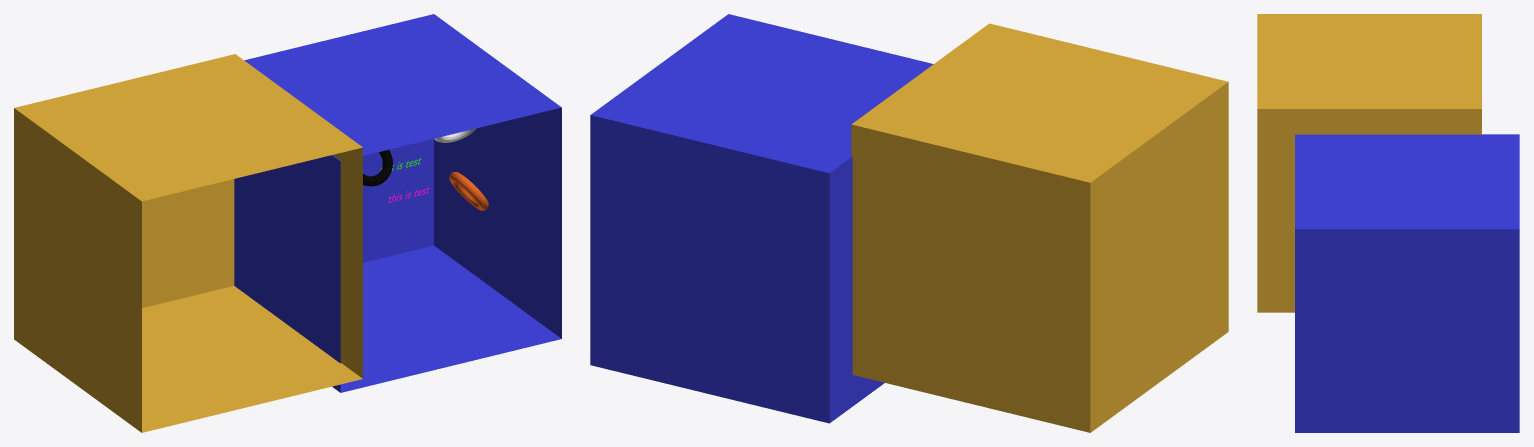
The picture shows the model from 3 angles, left to right: view 1: azimuth 30°, elevation 25°; view 2: azimuth 150°, elevation 25°; view 3: azimuth 270°, elevation 25°; orthographic projection. The views are drawn at different scales.
Parts seen in each view (by area): view 1: Cube.003, Cube, Torus.002, Torus; view 2: Cube.003, Cube; view 3: Cube, Cube.003.
Boxes of the visible parts, x1,y1,x2,y2 form: Cube.003: (14,54,362,432); Cube: (234,14,561,392); Torus.002: (449,172,488,210); Torus: (363,149,392,186); Cube.003: (851,23,1228,432); Cube: (590,14,933,423); Cube: (1295,134,1519,432); Cube.003: (1257,14,1481,312).
Bounding box in the file's own units: 77.22 × 43.61 × 45.17.
